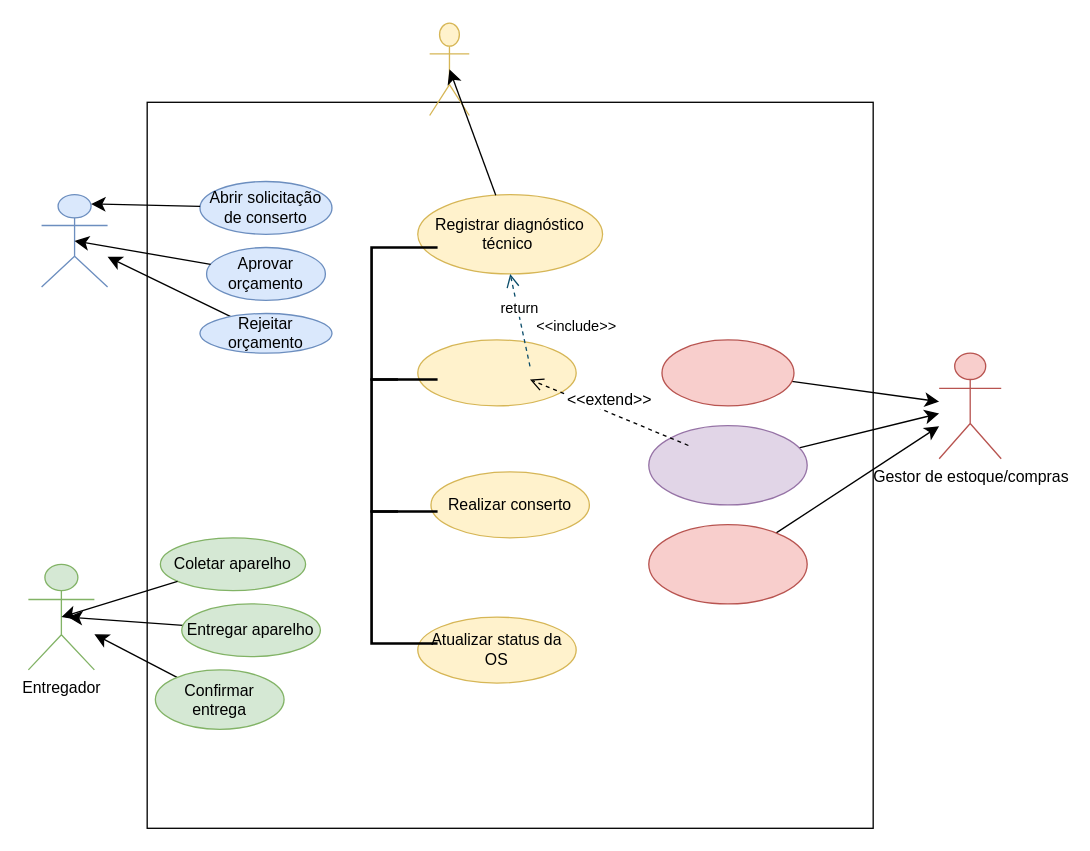
Some shapes in this 1090 by 851 pixel diagram are drawn without their labels. Each missing label, with the box of its shape:
Cadastrar peça: (661, 339, 794, 406)
Cliente: (40, 193, 108, 287)
Consultar estoque de peças: (416, 339, 576, 406)
Receber alerta de falta de peças: (647, 424, 807, 505)
Registrar entrada de peça: (647, 523, 807, 604)
Técnico: (428, 22, 469, 116)
